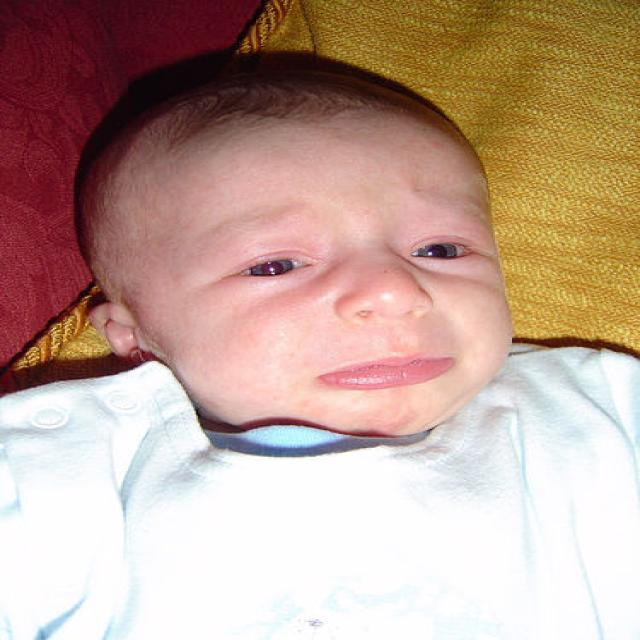person: (1, 71, 639, 639)
